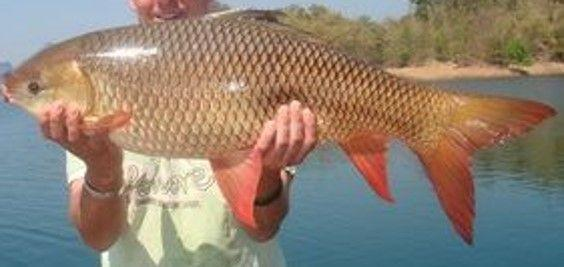Indian Carp: (2, 6, 554, 244)
